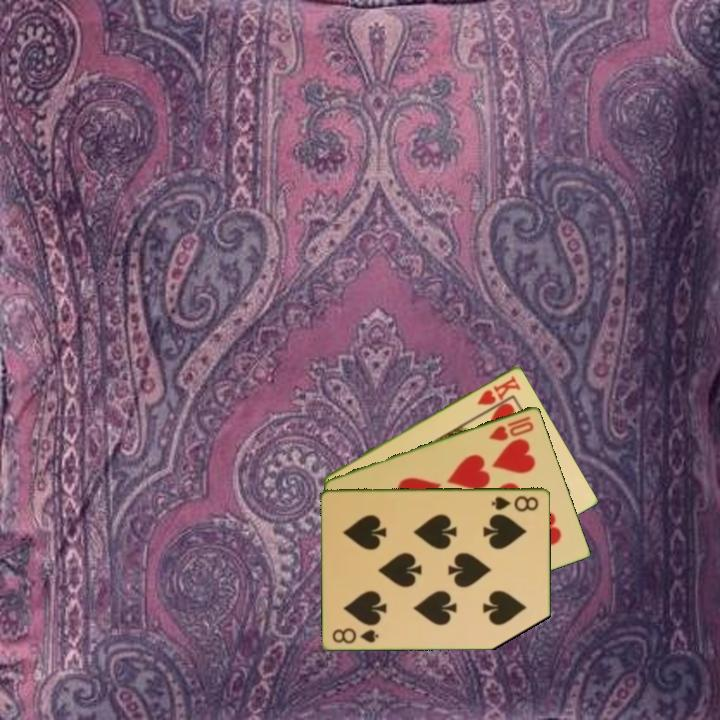10h: (486, 412, 537, 444)
8s: (329, 624, 381, 646), (488, 492, 541, 513)
Kh: (474, 372, 523, 408)
